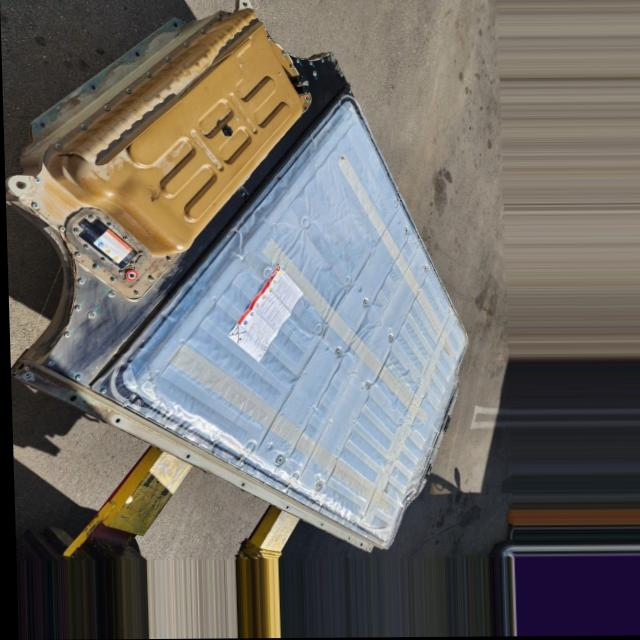Nut: (195, 24, 208, 35), (78, 242, 89, 251), (123, 258, 134, 267), (118, 232, 130, 240), (95, 253, 107, 261), (71, 227, 82, 234), (135, 249, 144, 256), (83, 214, 95, 219), (104, 223, 112, 226)
Screw: (428, 299, 456, 316), (262, 448, 285, 463), (116, 86, 140, 100), (355, 297, 375, 312), (98, 288, 122, 300), (310, 476, 325, 493), (320, 350, 342, 361), (141, 269, 157, 284), (176, 40, 197, 51), (392, 226, 413, 236), (36, 358, 54, 369), (161, 55, 175, 69), (129, 288, 143, 301), (95, 385, 107, 400), (378, 334, 400, 342), (86, 310, 99, 323), (75, 277, 90, 288), (67, 373, 85, 382), (59, 328, 71, 341), (417, 262, 428, 275), (31, 171, 40, 185), (72, 123, 92, 129), (356, 382, 370, 390), (48, 141, 60, 150), (161, 256, 176, 263), (72, 303, 82, 313), (54, 224, 68, 231), (141, 72, 155, 78), (108, 276, 117, 285), (97, 103, 110, 109), (73, 252, 82, 260), (88, 264, 99, 270)
